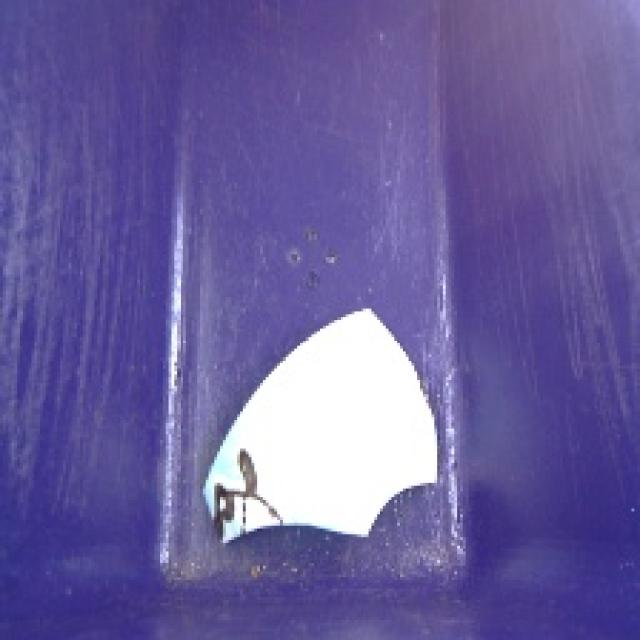china: (194, 296, 452, 554)
